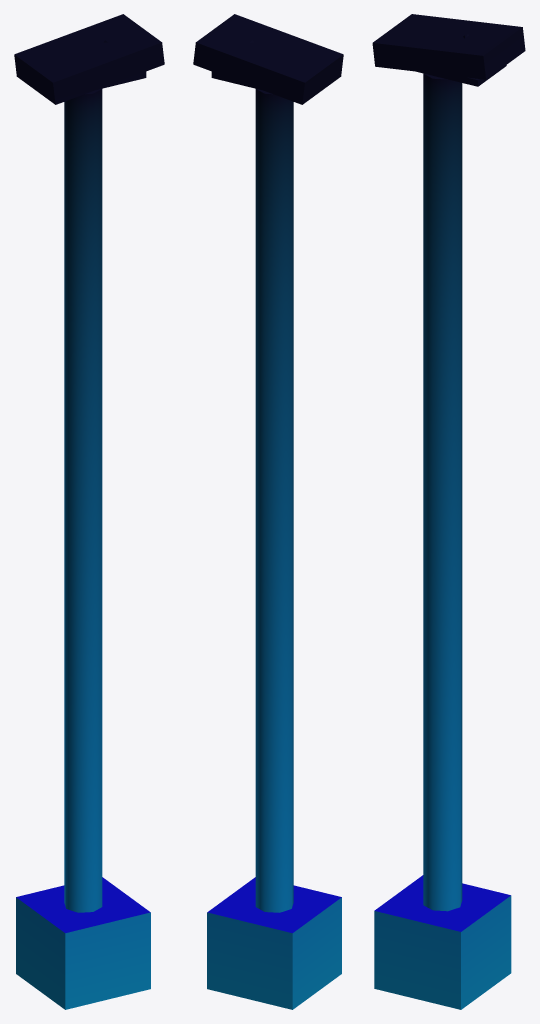
The model's file is streetlight_damaged.glb.
The picture shows the model from 3 angles, left to right: view 1: azimuth 30°, elevation 25°; view 2: azimuth 150°, elevation 25°; view 3: azimuth 330°, elevation 25°; orthographic projection.
Visible parts, largest first — view 1: lod0; view 2: lod0; view 3: lod0.
Boxes of the visible parts, x1,y1,x2,y2 form: lod0: (14,14,164,1009); lod0: (193,14,343,1009); lod0: (372,14,525,1009).
Size of what is drawn, in the model's own units: 0.9151 by 7.34 by 0.7.
